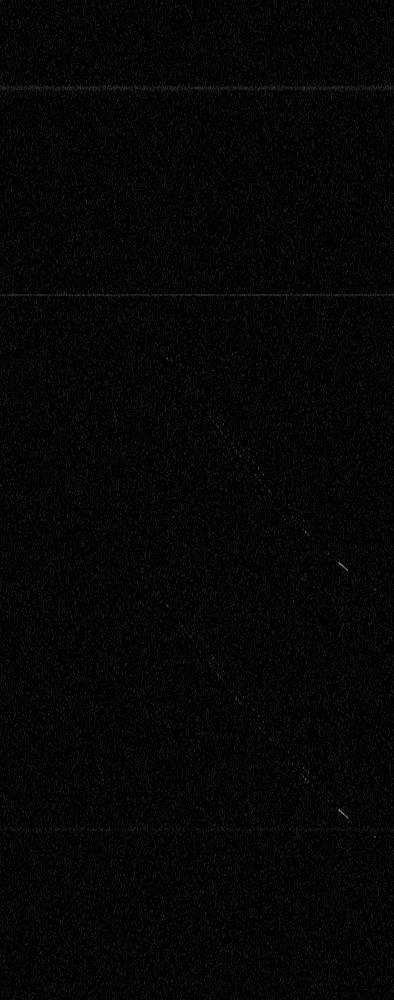signal: (0, 0, 393, 999)
